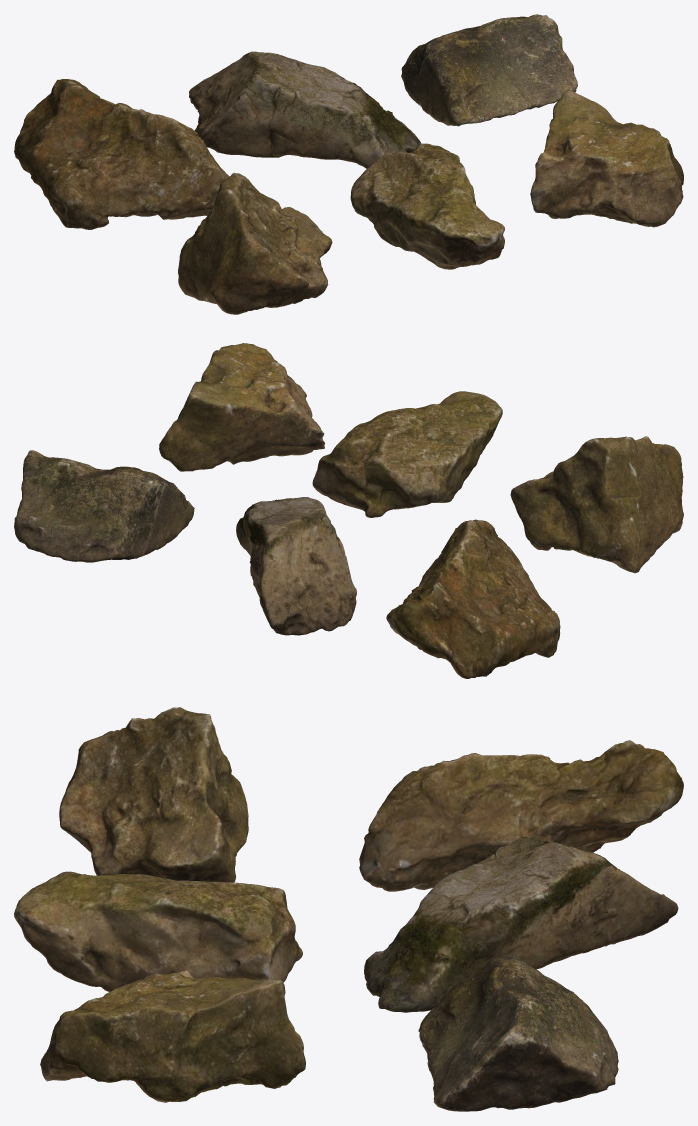
File: rock_moss_set_01.glb
3 renders of one model, top to bottom at view 1: azimuth 30°, elevation 25°; view 2: azimuth 150°, elevation 25°; view 3: azimuth 270°, elevation 25°, orthographic. The views are drawn at different scales.
Parts seen in each view (by area): view 1: rock_moss_set_01_rock01, rock_moss_set_01_rock02, rock_moss_set_01_rock06, rock_moss_set_01_rock04, rock_moss_set_01_rock03, rock_moss_set_01_rock05; view 2: rock_moss_set_01_rock04, rock_moss_set_01_rock01, rock_moss_set_01_rock05, rock_moss_set_01_rock03, rock_moss_set_01_rock06, rock_moss_set_01_rock02; view 3: rock_moss_set_01_rock01, rock_moss_set_01_rock02, rock_moss_set_01_rock05, rock_moss_set_01_rock04, rock_moss_set_01_rock06, rock_moss_set_01_rock03.
Boxes of the visible parts, left/top/right/bottom form: rock_moss_set_01_rock01: left=14, top=79, right=229, bottom=229; rock_moss_set_01_rock02: left=189, top=51, right=421, bottom=168; rock_moss_set_01_rock06: left=530, top=89, right=683, bottom=227; rock_moss_set_01_rock04: left=178, top=173, right=332, bottom=314; rock_moss_set_01_rock03: left=401, top=14, right=577, bottom=126; rock_moss_set_01_rock05: left=350, top=143, right=504, bottom=269; rock_moss_set_01_rock04: left=510, top=436, right=683, bottom=573; rock_moss_set_01_rock01: left=386, top=519, right=560, bottom=678; rock_moss_set_01_rock05: left=312, top=391, right=502, bottom=517; rock_moss_set_01_rock03: left=14, top=450, right=194, bottom=562; rock_moss_set_01_rock06: left=159, top=343, right=325, bottom=471; rock_moss_set_01_rock02: left=236, top=497, right=356, bottom=635; rock_moss_set_01_rock01: left=359, top=740, right=683, bottom=891; rock_moss_set_01_rock02: left=364, top=836, right=678, bottom=1012; rock_moss_set_01_rock05: left=14, top=871, right=302, bottom=991; rock_moss_set_01_rock04: left=59, top=707, right=248, bottom=882; rock_moss_set_01_rock06: left=40, top=970, right=305, bottom=1102; rock_moss_set_01_rock03: left=418, top=956, right=618, bottom=1111.
Size of the model in its own units: 8 by 1.77 by 6.95.
Materials: 1 (1 with a texture image).
